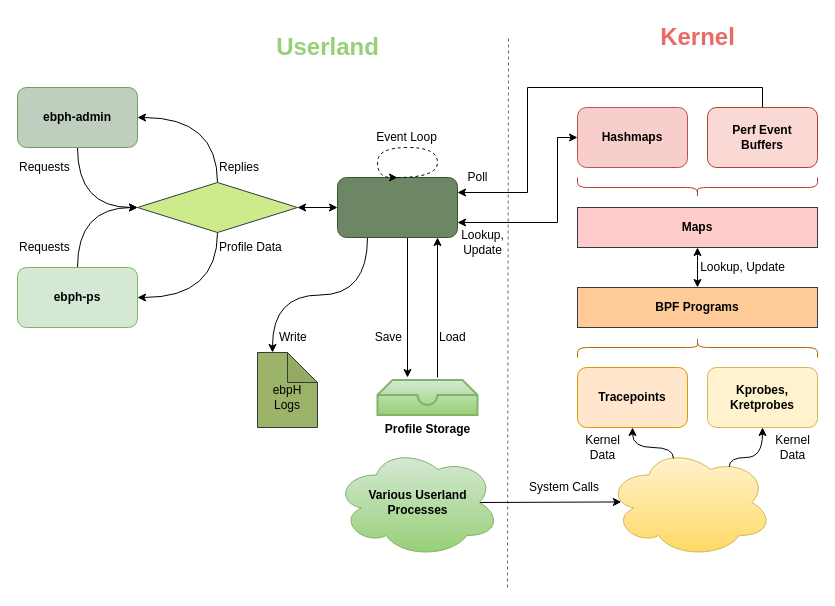
Some shapes in this 835 by 606 pixel diagram are drawn without their labels. Here are the shapes that lost their labels. From the top down, the centre of each, then its label:
At (217,207): "UNIX Stream Socket".
At (397,207): "Daemon".
At (689,502): "Kernel Functions".
